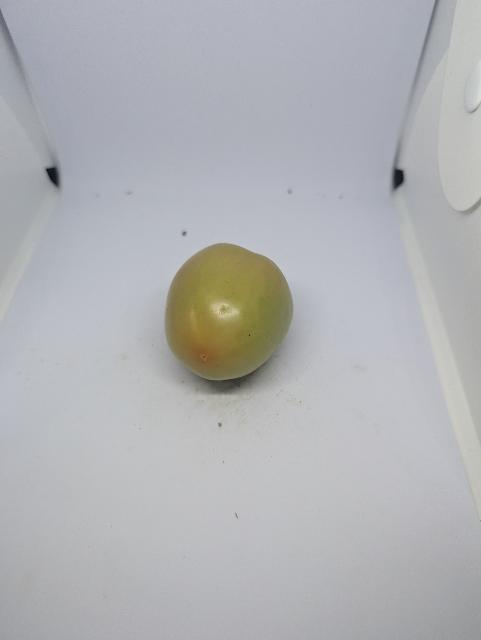breaker: (163, 239, 297, 384)
